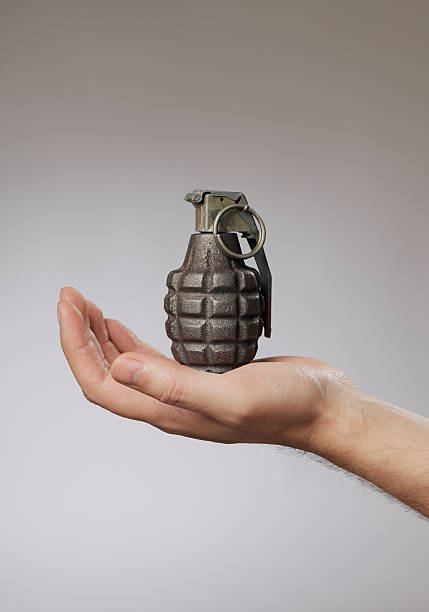e1: (162, 184, 275, 369)
